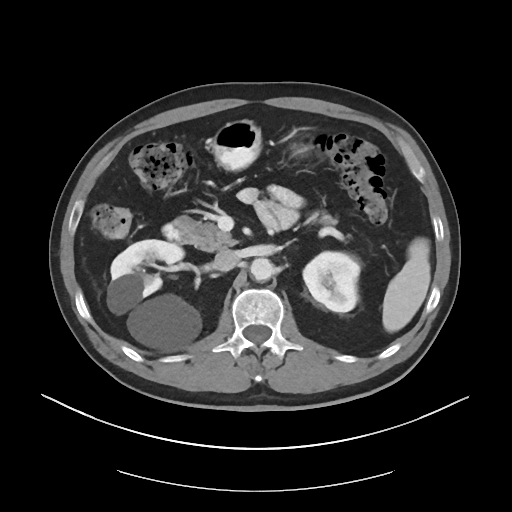Lesion: (125, 290, 204, 352)
